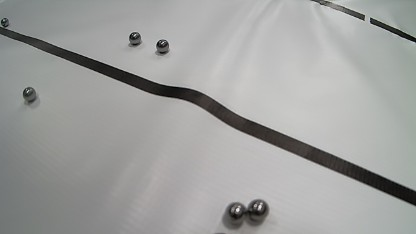ironball: (224, 202, 247, 225), (247, 199, 269, 222), (22, 87, 36, 102), (156, 39, 169, 53), (129, 32, 141, 45), (0, 18, 9, 27)
